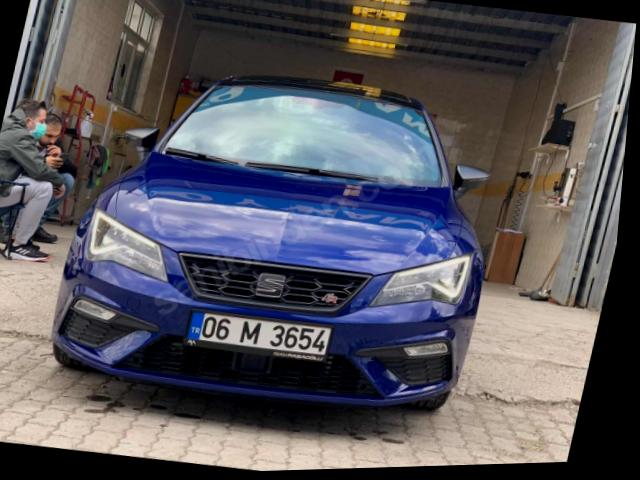plaka: (187, 311, 331, 356)
